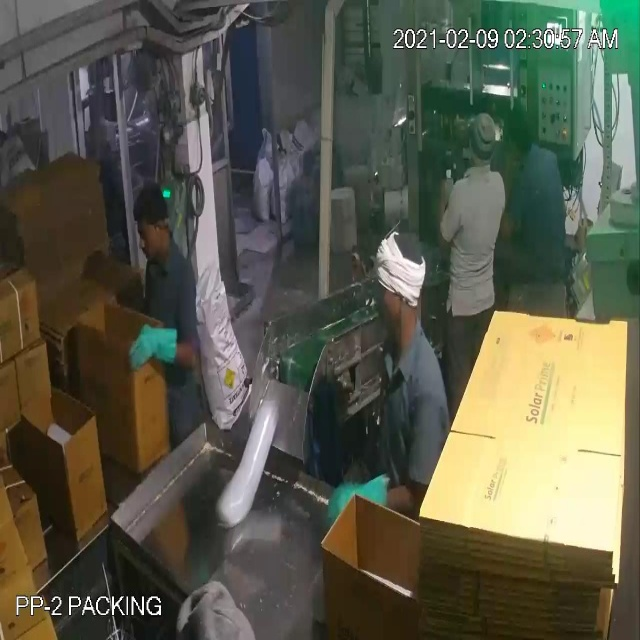Guantes: (307, 444, 400, 552), (120, 313, 189, 387)
